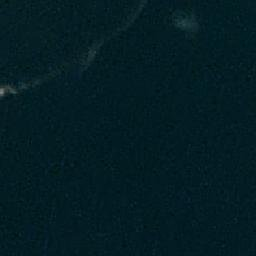debris: (1, 76, 38, 98), (170, 9, 199, 35), (78, 41, 104, 67)
